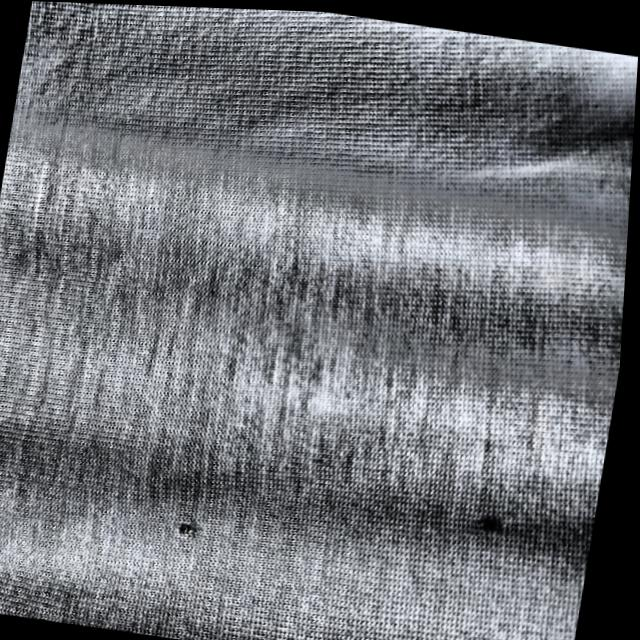Hole: (470, 497, 517, 548), (171, 500, 221, 546)
